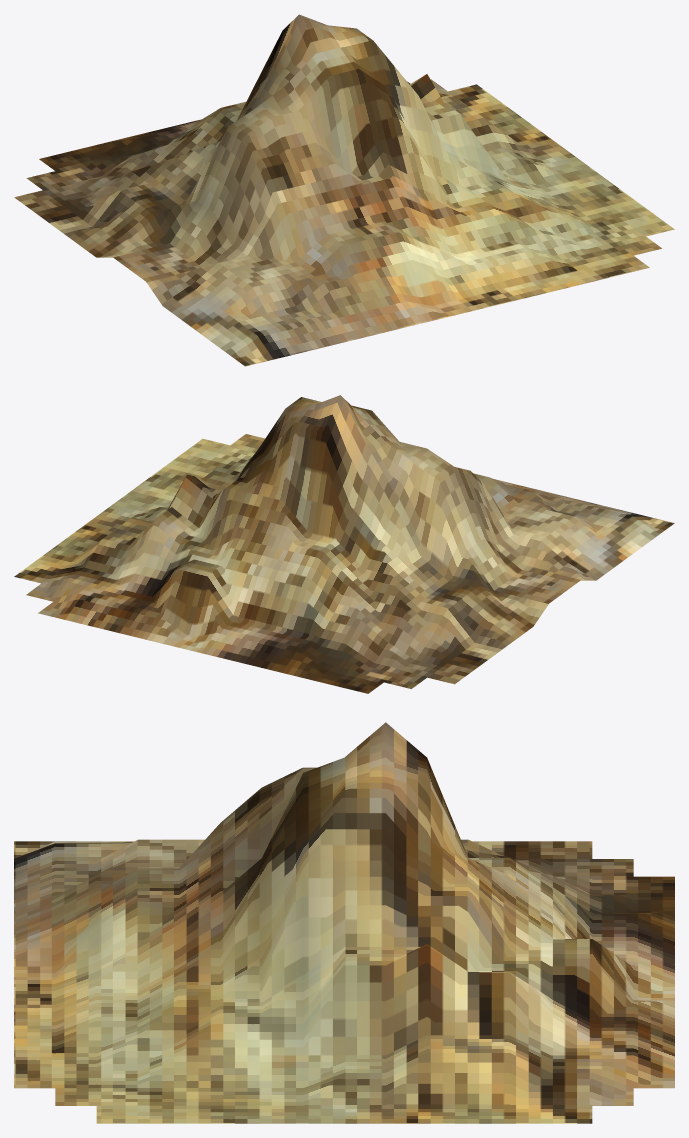
File: Kallio1.fbx
The picture shows the model from 3 angles, top to bottom: view 1: azimuth 30°, elevation 25°; view 2: azimuth 150°, elevation 25°; view 3: azimuth 270°, elevation 25°; orthographic projection. The views are drawn at different scales.
Parts seen in each view (by area): view 1: Plane001; view 2: Plane001; view 3: Plane001.
Boxes of the visible parts, x1,y1,x2,y2 form: Plane001: [14, 14, 674, 366]; Plane001: [14, 395, 674, 693]; Plane001: [14, 722, 674, 1123].
Bounding box in the file's own units: 116 × 46.39 × 115.
1 material, 1 textured.
